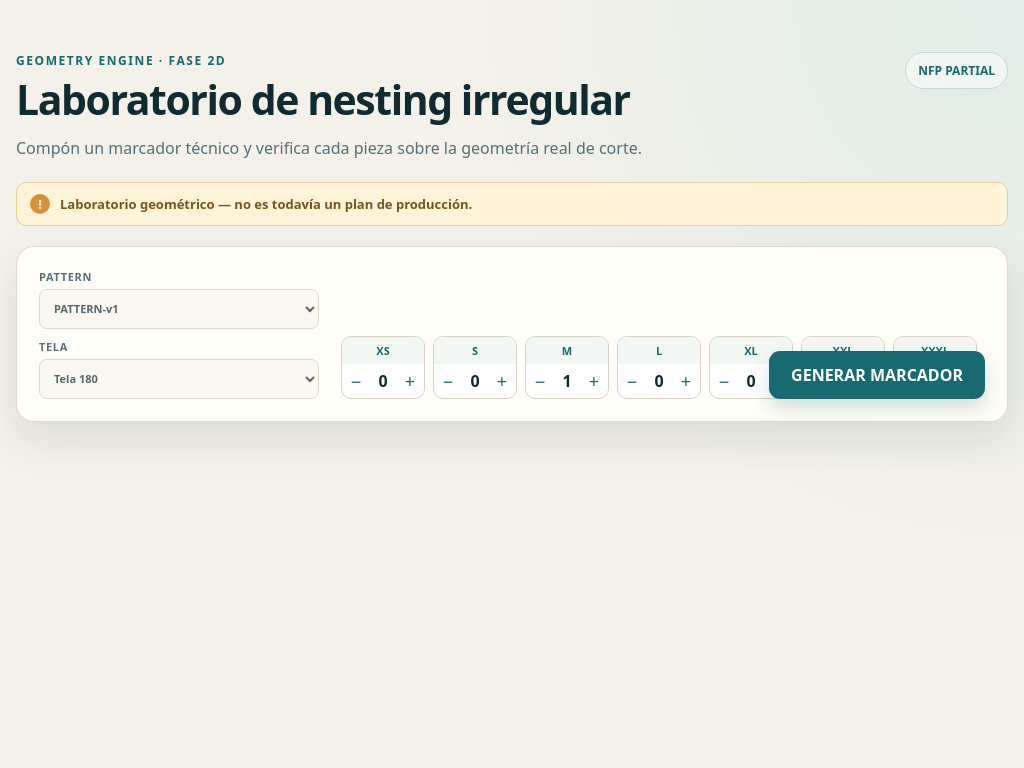
Test case: generates a backend marker and exposes the technical certificate
Check: the text "Laboratorio geométrico — no es todavía un plan de producción." is shown, box [60,195,472,213]
Step 1. Click the button "GENERAR MARCADOR" → (877, 375), box [769,351,985,399]
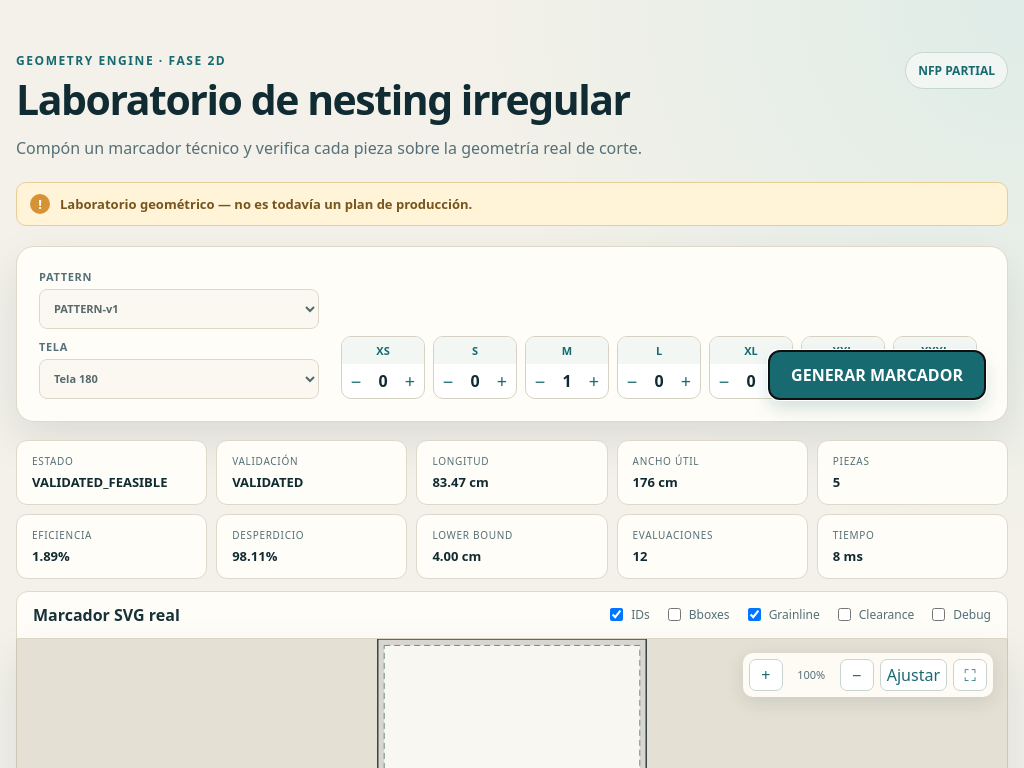
Check: the text "VALIDATED_FEASIBLE" is shown, box [32,473,191,491]
